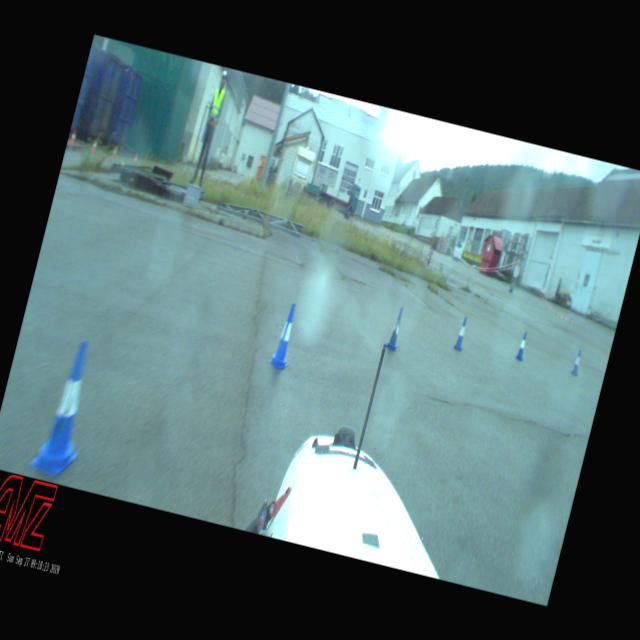blue_cone: (28, 336, 105, 478), (268, 301, 302, 370), (386, 306, 406, 351), (453, 316, 469, 351), (514, 330, 530, 361), (570, 350, 582, 376)
